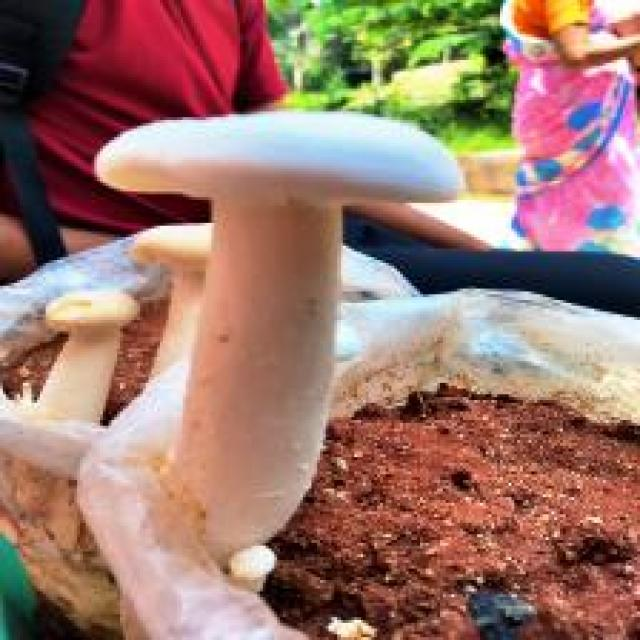field-mushroom: (91, 106, 463, 568)
